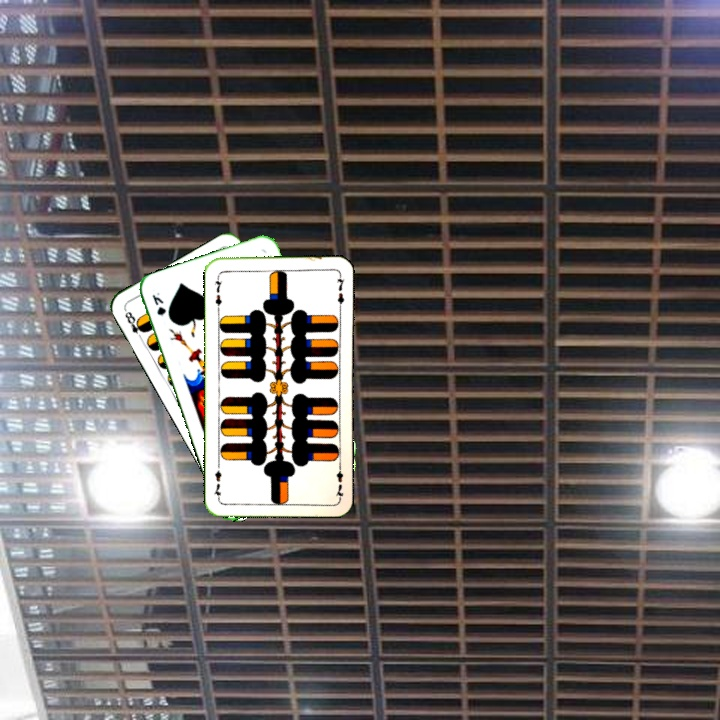E7: (210, 271, 225, 312), (332, 460, 346, 500)
E8: (120, 305, 148, 343)
GK: (148, 288, 169, 318)
